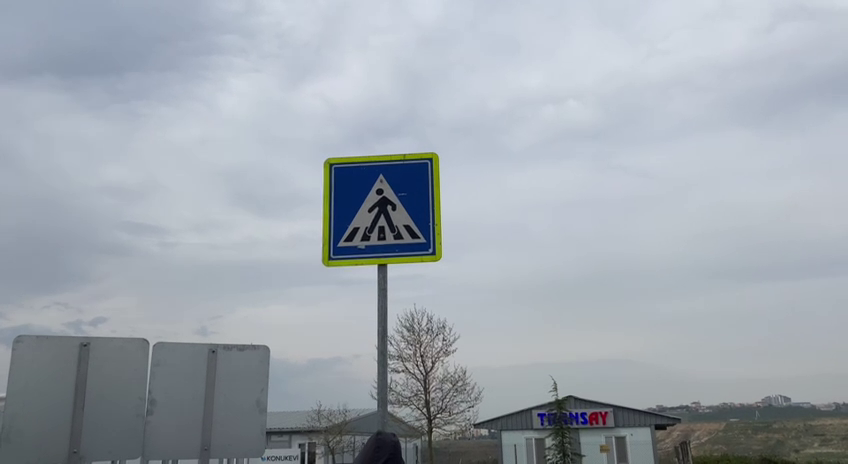pedestrianCrossing: (318, 149, 445, 269)
